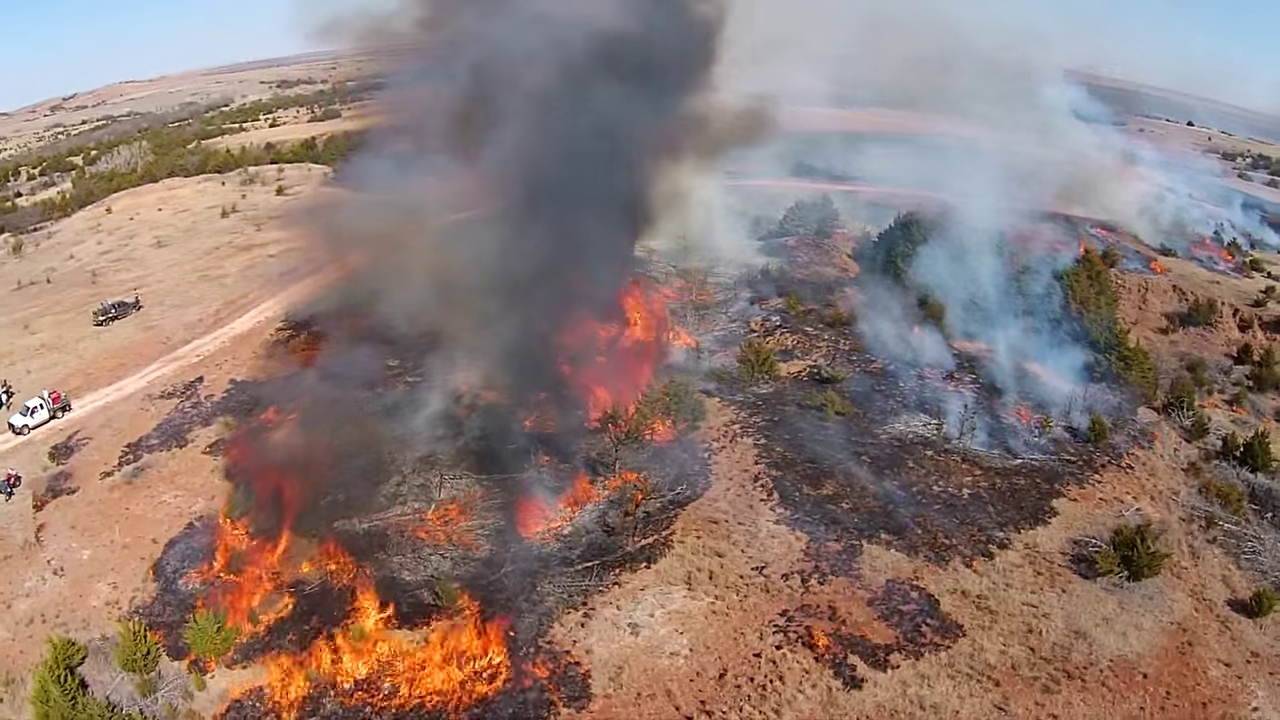forest_fire: (192, 405, 535, 716), (560, 281, 692, 442), (513, 467, 648, 542), (1148, 237, 1250, 275), (413, 495, 483, 550)
